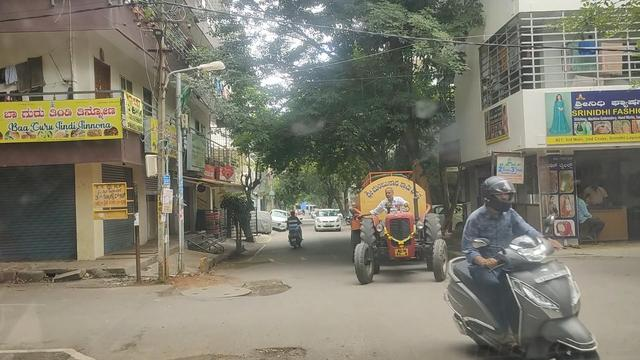HMV: (335, 160, 447, 292)
LMV: (426, 160, 610, 360)
RoadDamages: (178, 273, 305, 315), (214, 341, 312, 360)
